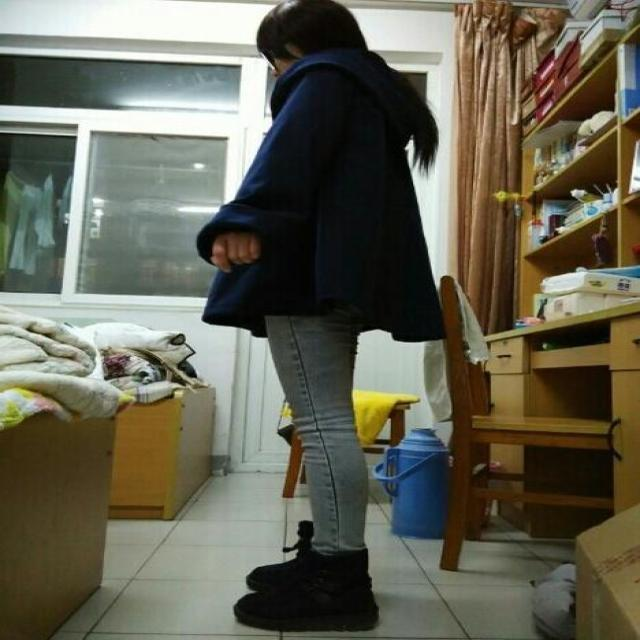long sleeve top: (202, 126, 449, 336)
trousers: (267, 251, 375, 549), (300, 334, 357, 535)
